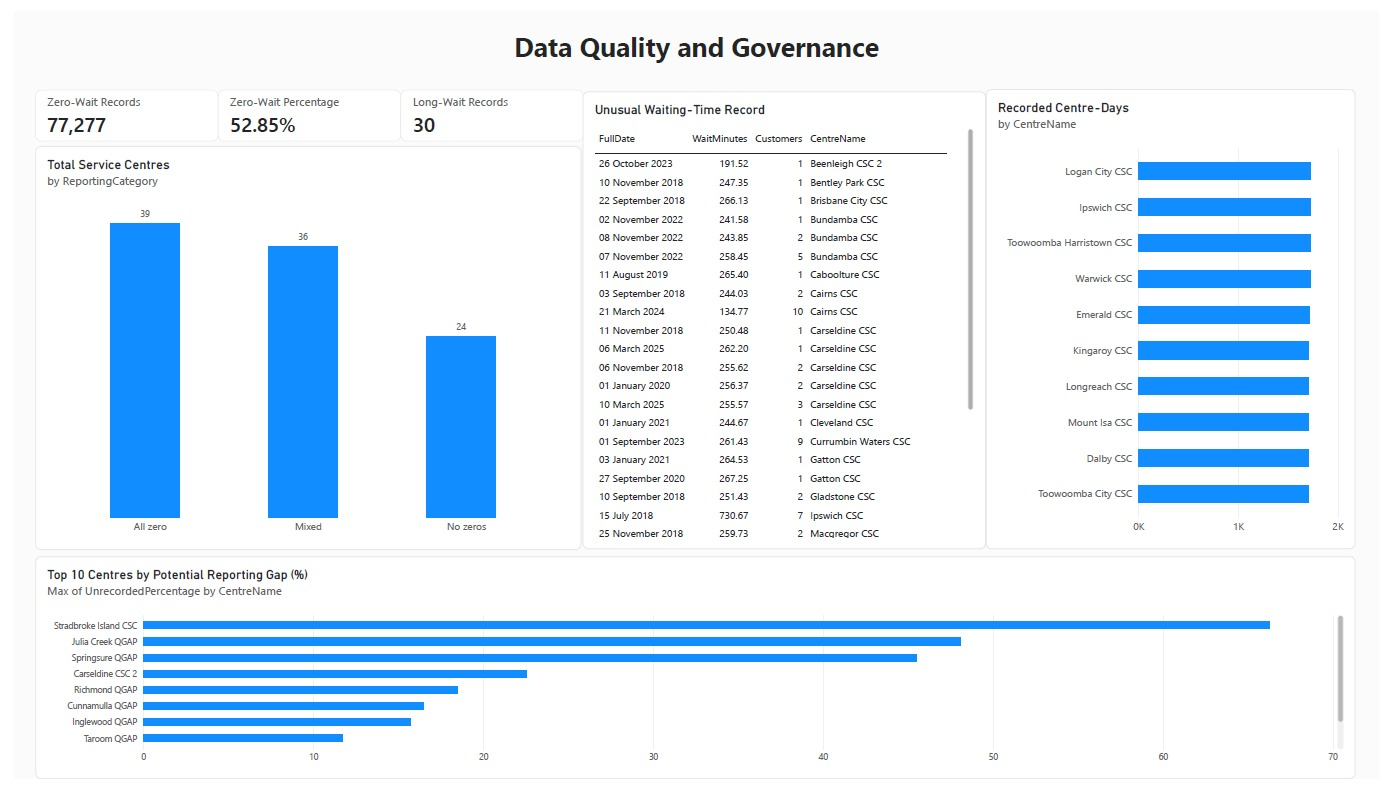

Layout of this report page (visuals, bound fields, positions):
{"tool":"powerbi","page":{"name":"Data Quality & Governance","canvas":[1920,1080],"ordinal":1},"visuals":[{"type":"cardVisual","fields":{"Data":["FactServicePerformance.Zero-Wait Records"]},"box":[30,111.4,257.1,71.4],"z":0},{"type":"cardVisual","fields":{"Data":["FactServicePerformance.Zero-Wait Percentage"]},"box":[286.9,111.2,257,71.4],"z":1000},{"type":"cardVisual","fields":{"Data":["FactServicePerformance.Long-Wait Records"]},"box":[543.8,111.2,257,71.4],"z":2000},{"type":"textbox","box":[510,25,900,87.1],"z":3000},{"type":"columnChart","fields":{"Category":["DimCentre.ReportingCategory"],"Y":["FactServicePerformance.Total Service Centres"]},"box":[30,190,768,568],"z":4000},{"type":"tableEx","title":"Unusual Waiting-Time Record","fields":{"Values":["DimDate.FullDate","FactServicePerformance.WaitMinutes","FactServicePerformance.Customers","DimCentre.CentreName"]},"box":[800,113.3,566.7,643.3],"z":5000},{"type":"clusteredBarChart","fields":{"Category":["DimCentre.CentreName"],"Y":["FactServicePerformance.Recorded Centre-Days"]},"box":[1366.7,110,520,646.7],"z":6000},{"type":"clusteredBarChart","title":"Top 10 Centres by Potential Reporting Gap (%)","fields":{"Category":["reporting_gaps_by_centre.CentreName"],"Y":["Max(reporting_gaps_by_centre.UnrecordedPercentage)"]},"box":[30,766.7,1856.7,313.3],"z":7000}]}

Visuals, with their boxes in screenshot pixels (x1, y1, x2, y2), scaled from the page's 1920x1080 canvas onto the 1387x794 screenshot:
cardVisual - FactServicePerformance.Zero-Wait Records: [x1=22, y1=82, x2=207, y2=134]
cardVisual - FactServicePerformance.Zero-Wait Percentage: [x1=207, y1=82, x2=393, y2=134]
cardVisual - FactServicePerformance.Long-Wait Records: [x1=393, y1=82, x2=578, y2=134]
textbox: [x1=368, y1=18, x2=1019, y2=82]
columnChart - DimCentre.ReportingCategory x FactServicePerformance.Total Service Centres: [x1=22, y1=140, x2=576, y2=557]
"Unusual Waiting-Time Record" tableEx: [x1=578, y1=83, x2=987, y2=556]
clusteredBarChart - DimCentre.CentreName x FactServicePerformance.Recorded Centre-Days: [x1=987, y1=81, x2=1363, y2=556]
"Top 10 Centres by Potential Reporting Gap (%)" clusteredBarChart: [x1=22, y1=564, x2=1363, y2=793]
